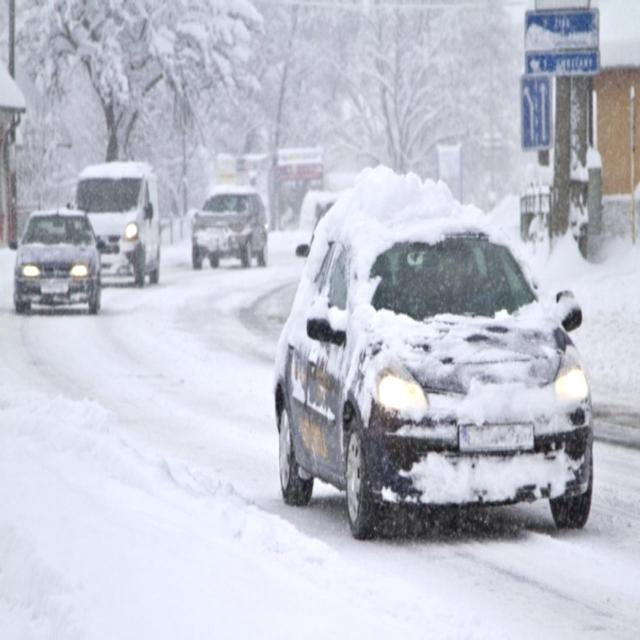Car: (274, 176, 602, 538), (10, 197, 104, 314), (182, 171, 264, 270)
Van: (66, 147, 160, 285)
